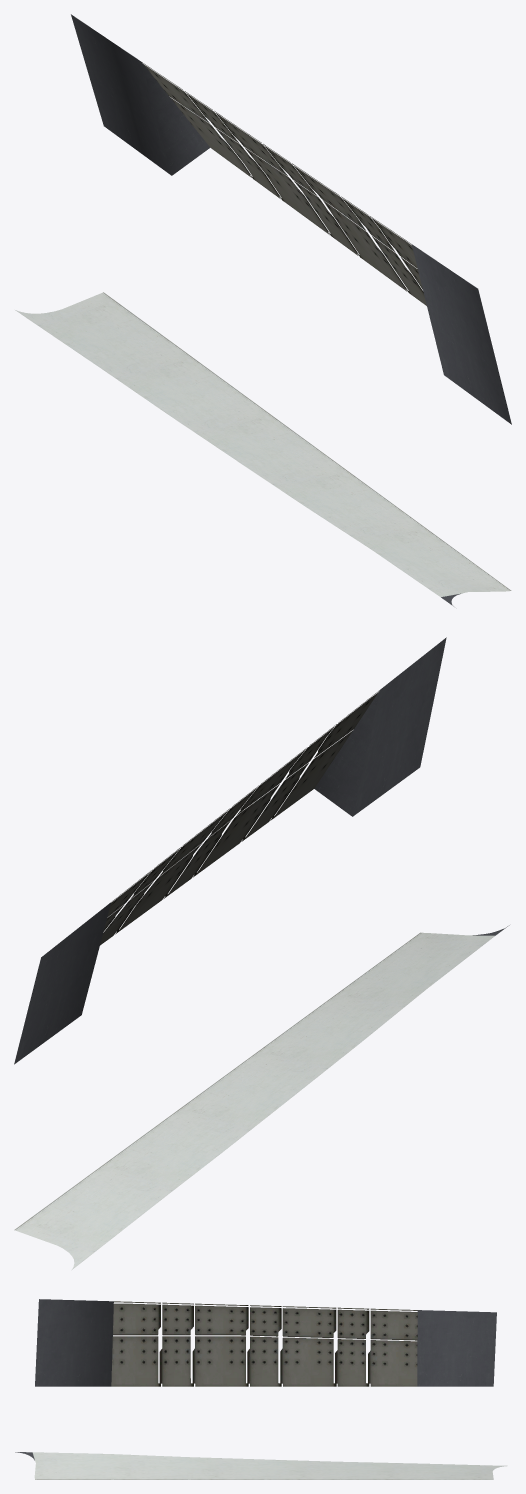
Rendered from STA20_lobbylink01.FBX.
3 renders of one model, top to bottom at view 1: azimuth 30°, elevation 25°; view 2: azimuth 150°, elevation 25°; view 3: azimuth 270°, elevation 25°, orthographic. The views are drawn at different scales.
Visible parts, largest first — view 1: STA20_lobbylink01; view 2: STA20_lobbylink01; view 3: STA20_lobbylink01.
Boxes of the visible parts, x1=… form: STA20_lobbylink01: x1=15, y1=14, x2=511, y2=606; STA20_lobbylink01: x1=14, y1=637, x2=509, y2=1270; STA20_lobbylink01: x1=15, y1=1299, x2=507, y2=1479.
Size of the model in its own units: 4.15 by 11.25 by 28.41.
